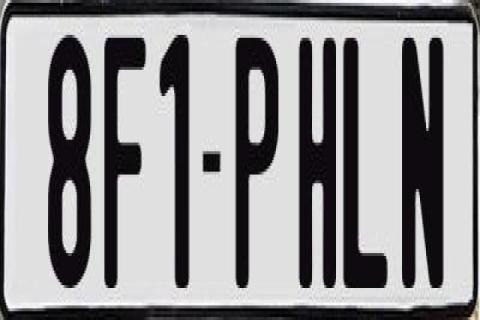0: (46, 32, 92, 291), (156, 26, 192, 288)
F: (104, 38, 146, 288)
H: (300, 38, 338, 300)
L: (340, 29, 390, 288)
N: (400, 29, 444, 288)
P: (234, 32, 278, 288)
